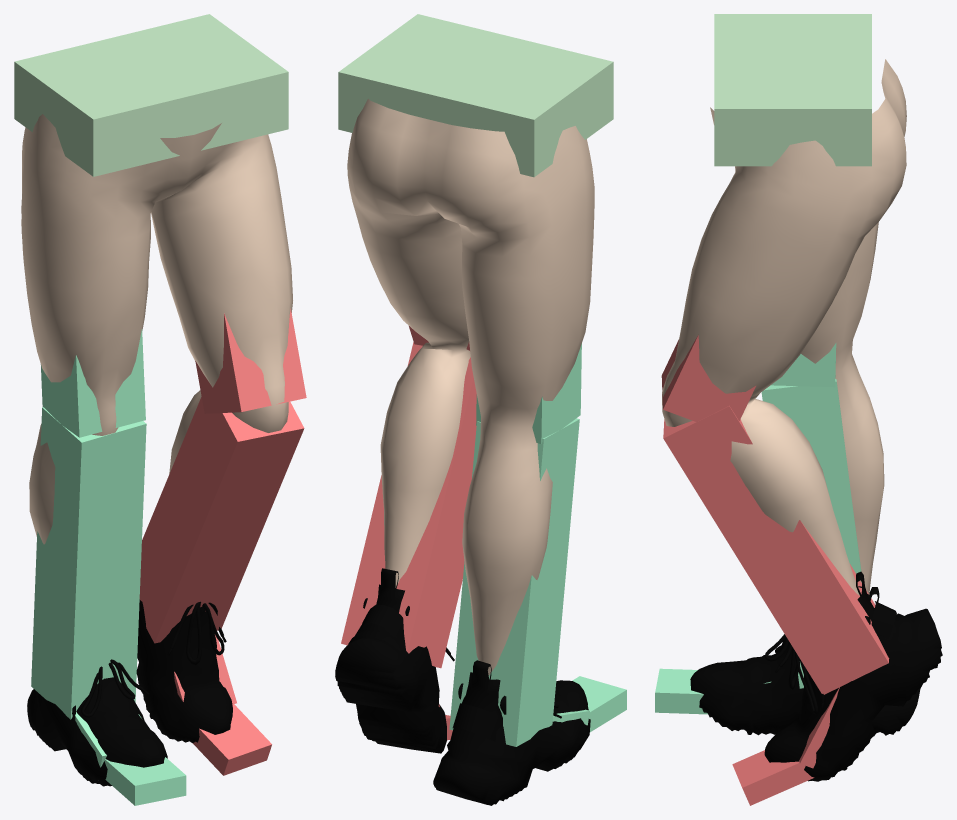
The model's file is man.glb.
The picture shows the model from 3 angles, left to right: view 1: azimuth 30°, elevation 25°; view 2: azimuth 150°, elevation 25°; view 3: azimuth 270°, elevation 25°; orthographic projection.
Parts seen in each view (by area): view 1: FT_char_10_pelvis, char_10_bottom; view 2: char_10_bottom, FT_char_10_pelvis; view 3: FT_char_10_pelvis, char_10_bottom.
Boxes of the visible parts, x1,y1,x2,y2 form: FT_char_10_pelvis: (14,14,306,805); char_10_bottom: (21,114,292,544); char_10_bottom: (347,99,594,675); FT_char_10_pelvis: (335,14,626,805); FT_char_10_pelvis: (655,14,942,805); char_10_bottom: (662,59,906,595).
Bounding box in the file's own units: 0.3537 × 1.07 × 0.3997.
2 materials, 2 textured.
